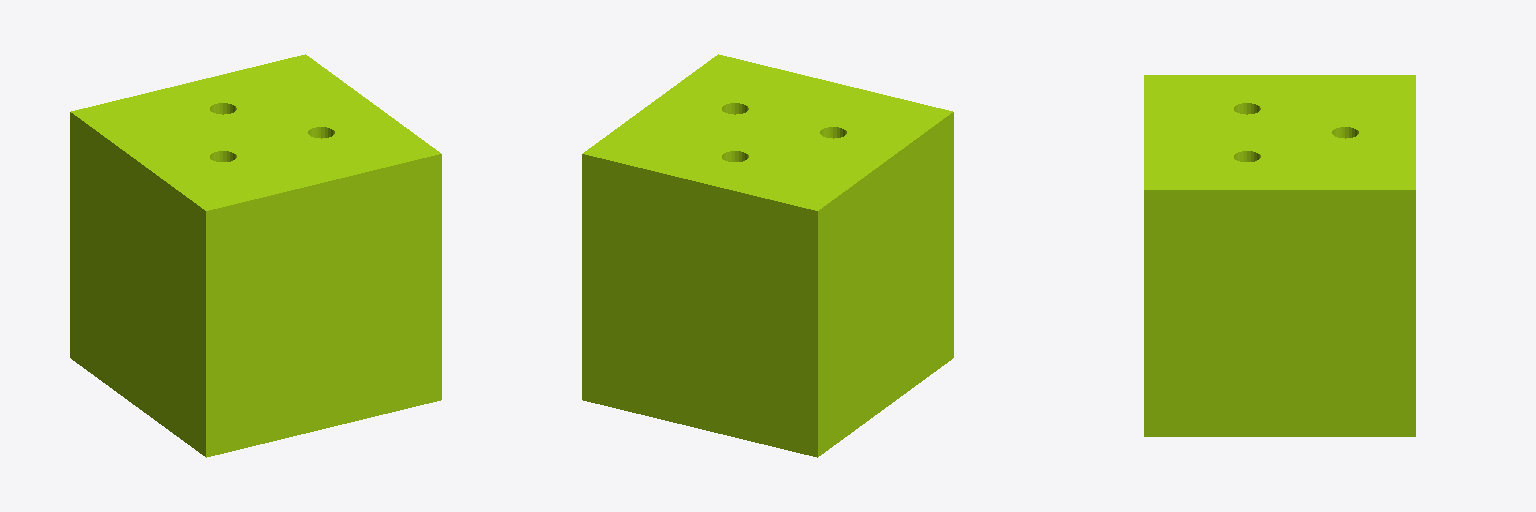
3 renders of one model, left to right at view 1: azimuth 30°, elevation 25°; view 2: azimuth 150°, elevation 25°; view 3: azimuth 270°, elevation 25°, orthographic.
Parts seen in each view (by area): view 1: gripping_item_v1; view 2: gripping_item_v1; view 3: gripping_item_v1.
Boxes of the visible parts, x1,y1,x2,y2 form: gripping_item_v1: [70, 54, 441, 457]; gripping_item_v1: [582, 54, 953, 457]; gripping_item_v1: [1144, 75, 1415, 436].
Bounding box in the file's own units: 0.6 × 0.6 × 0.6.
Materials: 1 (1 with a texture image).